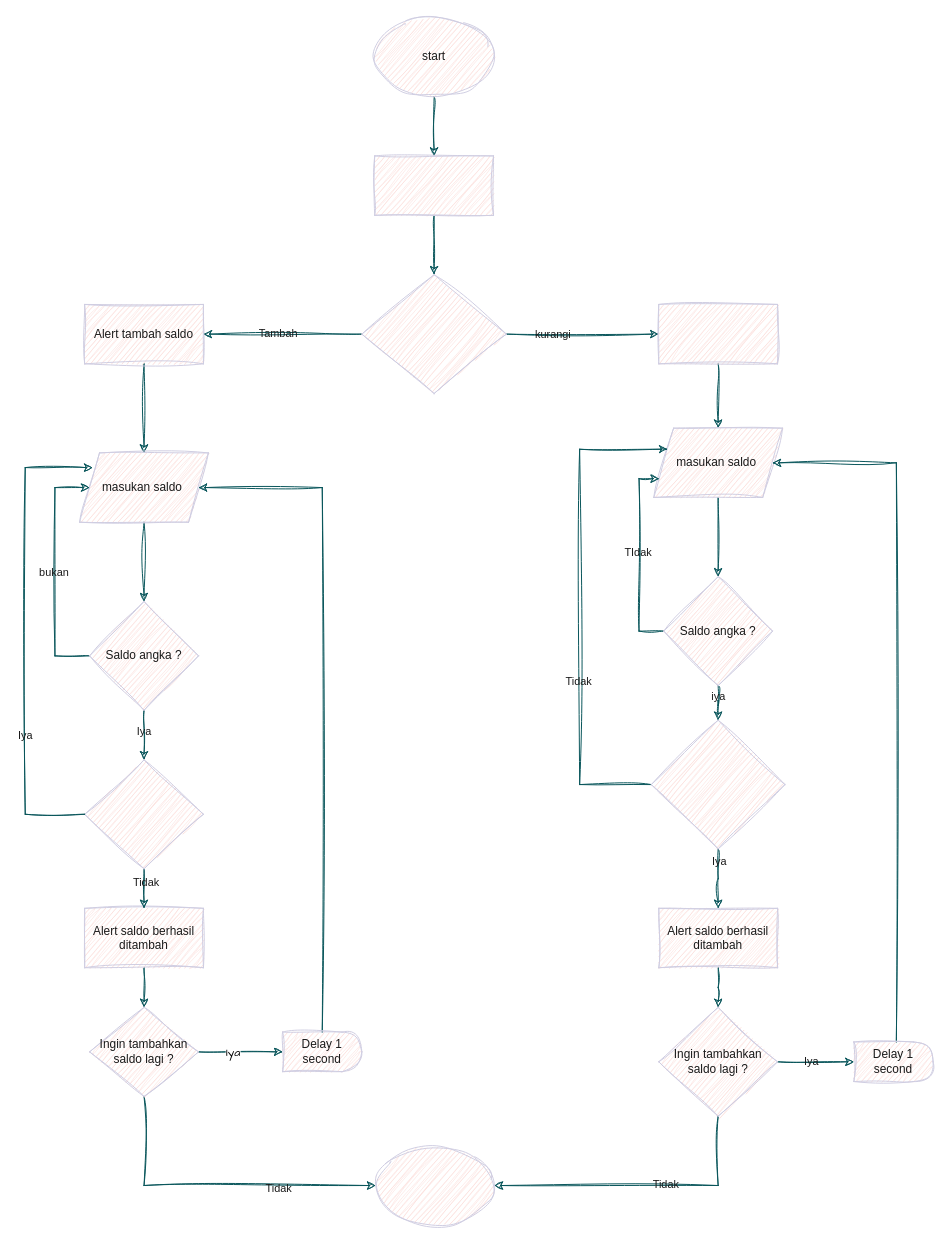
This 950x1242 diagram has some shape labels left out. Each missing label, with the box of its shape:
Alert kurangi sado: (658, 303, 778, 364)
Angka dibawah nol ? (minus): (84, 759, 203, 869)
End: (375, 1145, 495, 1225)
index page: (374, 155, 494, 215)
Jumlah angka melibih batas saldo: (650, 719, 785, 849)
Tambah atau kurangi saldo ?: (361, 274, 506, 394)
